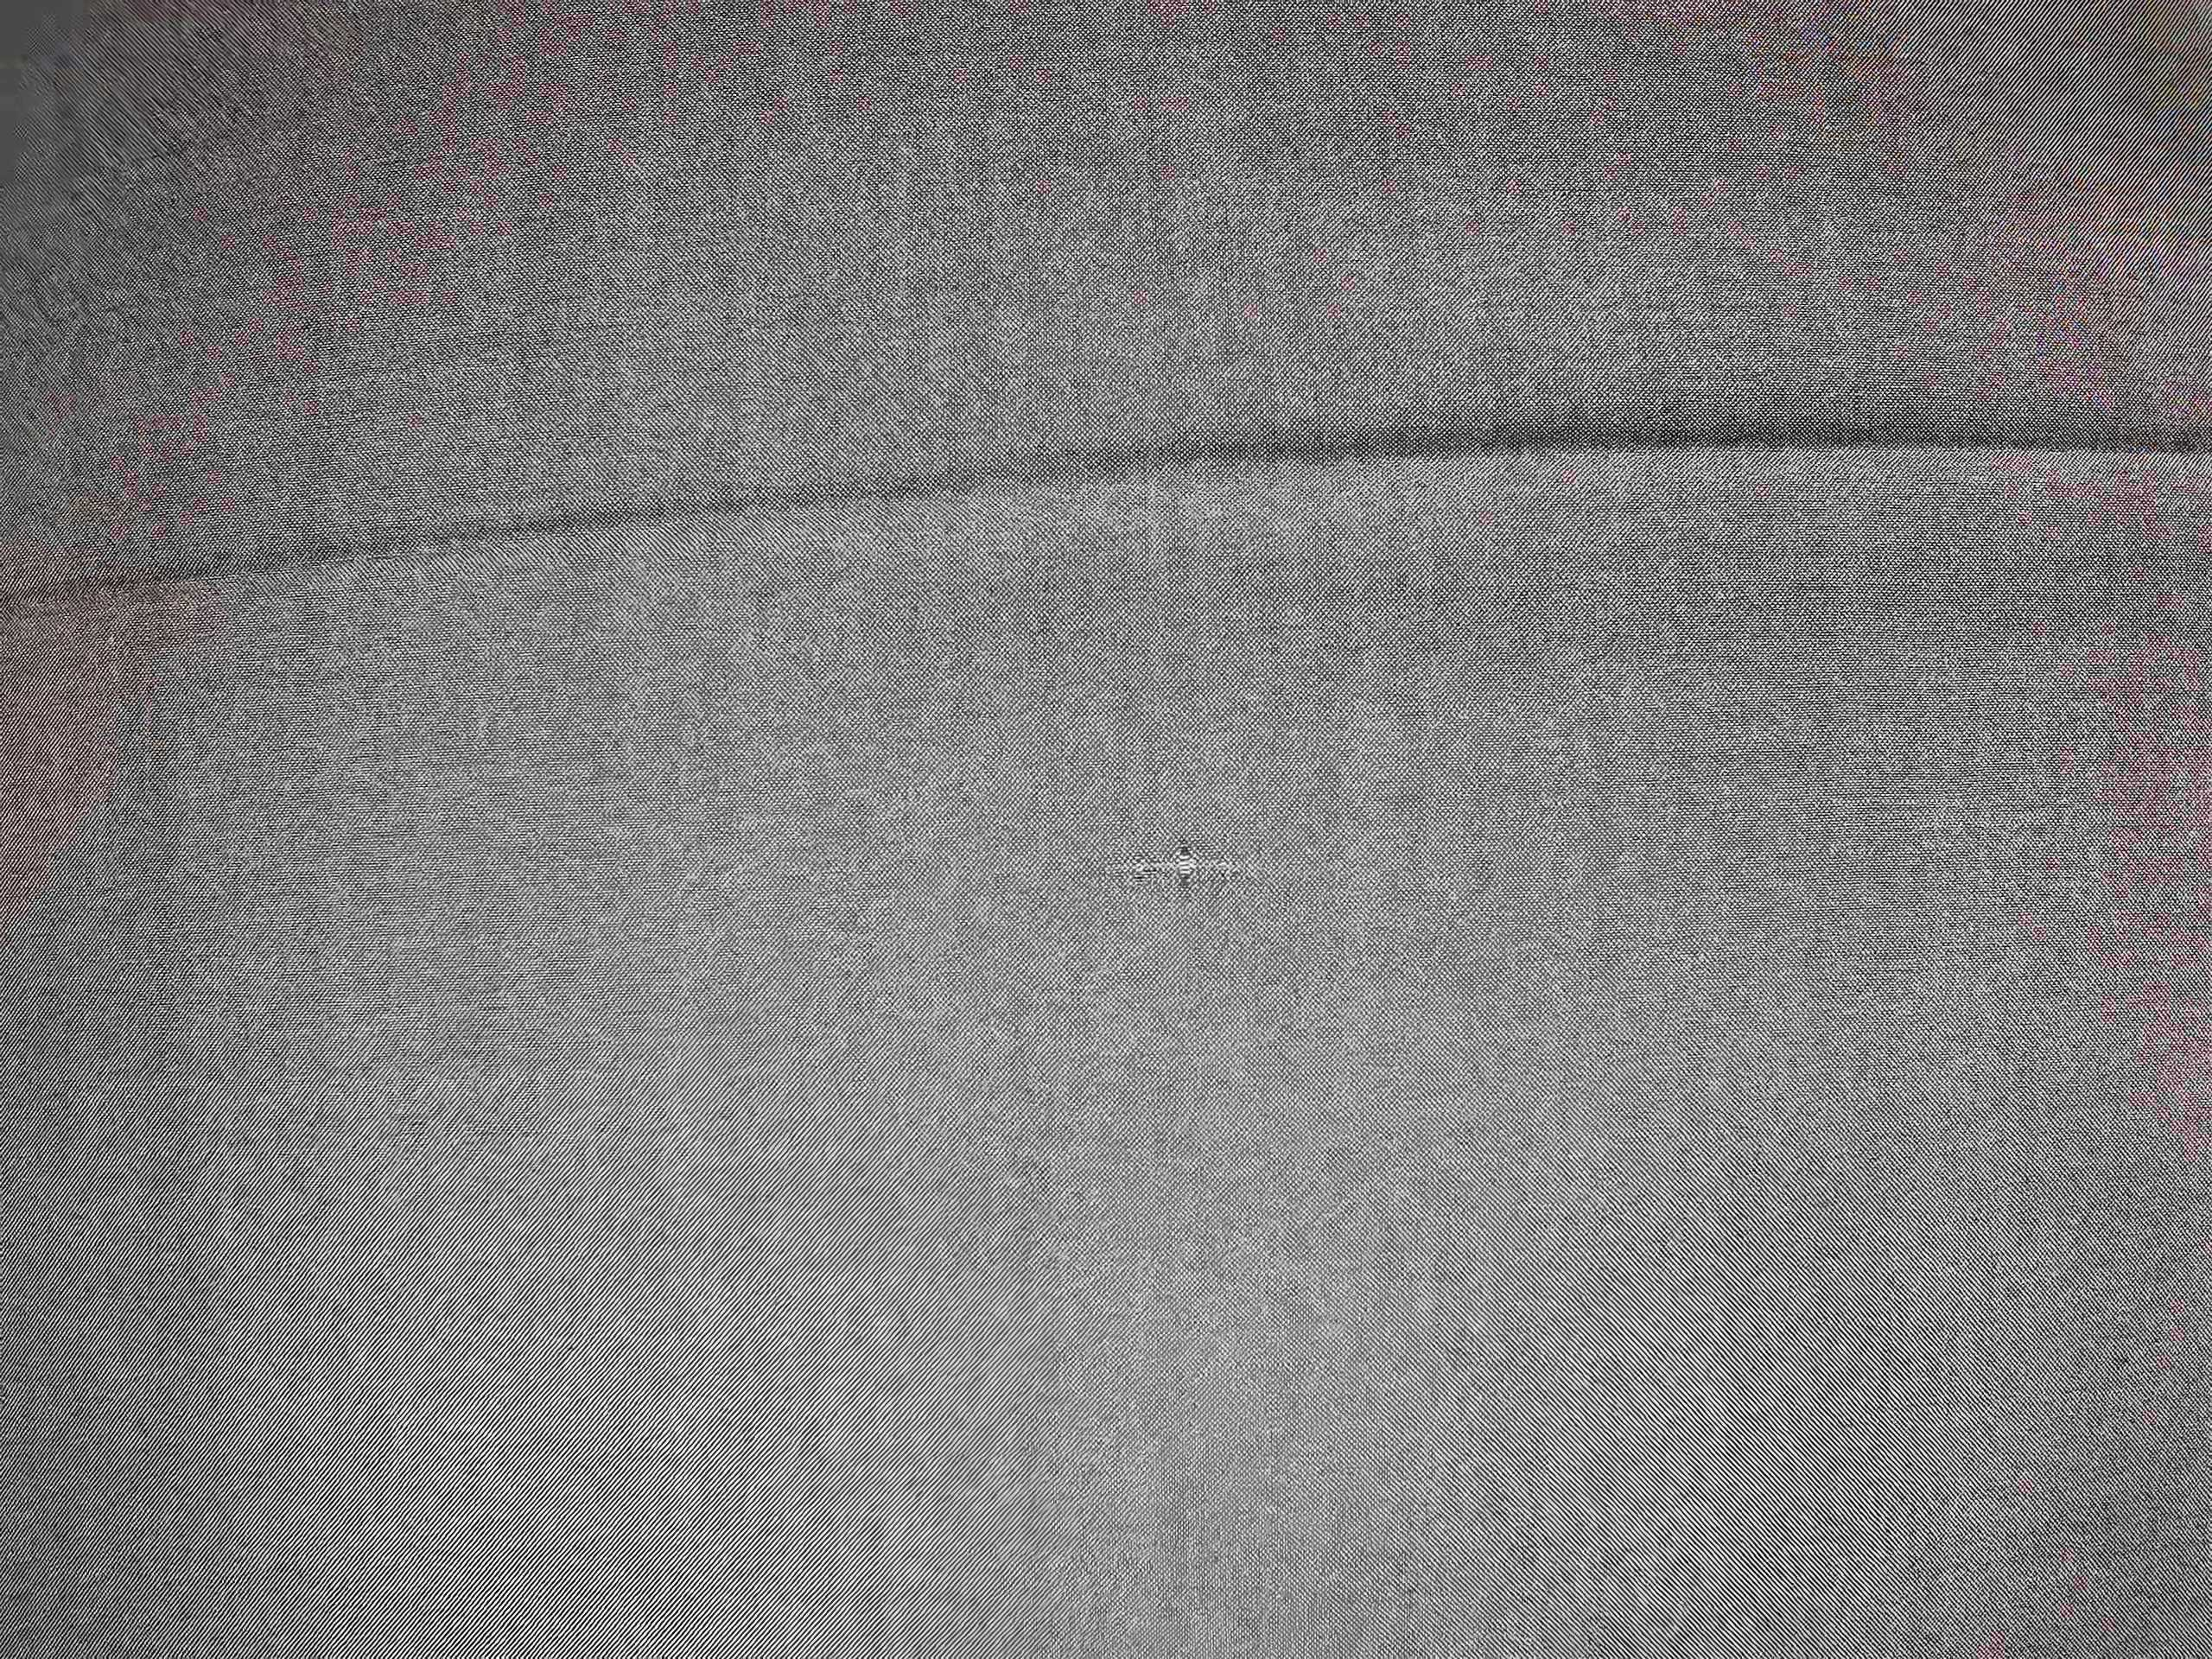rubbing-hole: (1109, 826, 1268, 908)
